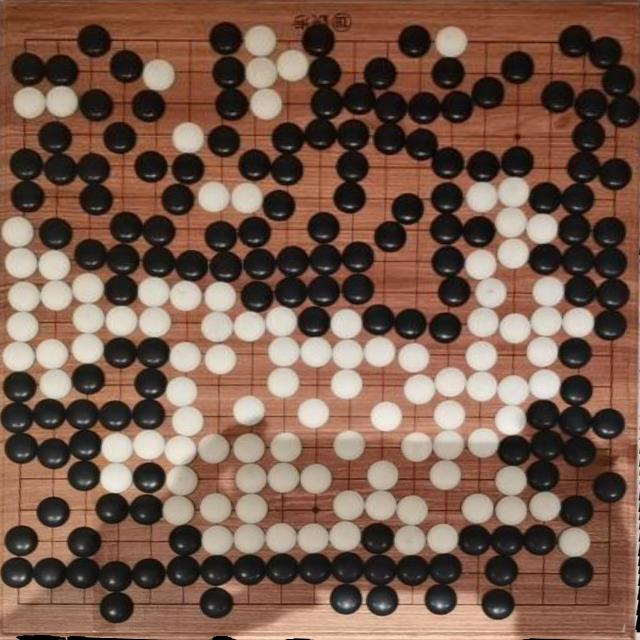blackstone: (65, 556, 102, 590), (559, 404, 594, 439), (136, 336, 172, 370), (94, 492, 130, 526), (67, 526, 103, 560), (128, 492, 164, 526), (166, 554, 202, 588), (44, 152, 78, 187), (38, 120, 73, 154), (215, 87, 249, 122), (79, 182, 114, 216), (65, 398, 100, 432), (598, 157, 633, 191), (3, 370, 38, 404), (606, 93, 640, 128), (67, 458, 102, 492), (4, 524, 39, 558), (97, 561, 132, 595), (76, 152, 112, 185), (102, 121, 138, 154), (106, 243, 140, 277), (10, 148, 44, 182), (572, 120, 606, 154), (432, 56, 466, 90), (110, 49, 144, 83), (430, 212, 464, 246), (471, 76, 505, 110), (11, 180, 45, 214), (541, 80, 575, 114), (596, 277, 630, 311), (307, 274, 341, 308), (274, 275, 308, 309), (12, 52, 46, 86), (68, 428, 102, 462), (398, 24, 432, 58), (361, 521, 395, 555), (4, 431, 38, 465), (33, 556, 67, 590), (200, 586, 234, 620), (109, 211, 144, 244), (44, 54, 79, 87), (98, 400, 133, 433), (562, 435, 597, 468), (168, 524, 203, 557), (77, 24, 112, 57), (362, 554, 397, 587), (199, 554, 234, 587), (103, 337, 139, 369), (131, 558, 167, 590), (142, 214, 176, 247), (172, 152, 206, 185), (270, 152, 304, 185), (136, 150, 170, 183), (212, 55, 246, 88), (208, 125, 242, 158), (80, 89, 114, 122), (39, 217, 73, 250), (500, 145, 534, 178), (592, 216, 626, 249), (374, 121, 407, 155), (162, 182, 196, 215), (342, 272, 375, 306), (602, 64, 636, 97), (501, 51, 535, 84), (33, 398, 67, 431), (559, 374, 593, 407), (302, 23, 335, 57), (588, 35, 622, 68), (560, 494, 594, 527), (526, 458, 560, 491), (559, 24, 592, 58), (486, 554, 520, 587), (593, 471, 627, 504), (560, 556, 593, 590), (562, 245, 596, 278), (175, 249, 210, 281), (134, 367, 169, 399), (36, 496, 71, 528), (99, 592, 134, 624), (364, 57, 397, 90), (72, 363, 105, 396), (241, 280, 274, 313), (1, 556, 34, 589), (309, 56, 342, 89), (441, 91, 474, 124), (574, 88, 608, 120), (467, 150, 501, 182), (462, 216, 496, 248), (132, 90, 166, 122), (132, 398, 166, 430), (558, 337, 592, 369), (1, 402, 35, 434), (497, 434, 531, 466), (209, 22, 243, 54), (132, 462, 166, 494), (591, 408, 625, 440), (36, 438, 70, 470), (491, 525, 525, 557), (331, 552, 365, 584), (298, 552, 332, 584), (265, 553, 299, 585), (232, 554, 266, 586), (481, 588, 515, 620), (304, 117, 338, 149), (142, 246, 176, 278), (238, 216, 271, 248), (205, 220, 238, 252), (336, 150, 369, 182), (210, 250, 243, 282), (431, 182, 464, 214), (263, 189, 296, 221), (334, 182, 366, 215), (298, 305, 331, 337), (438, 275, 471, 307), (394, 308, 427, 340), (594, 308, 627, 340), (523, 524, 556, 556), (429, 553, 462, 585), (396, 554, 429, 586), (459, 524, 492, 556), (562, 183, 594, 216), (432, 146, 464, 179), (271, 122, 304, 154), (408, 91, 440, 124), (74, 238, 106, 271), (558, 215, 592, 246), (105, 276, 140, 306), (239, 148, 271, 180), (308, 212, 340, 244), (392, 193, 424, 225), (362, 304, 394, 336), (430, 312, 462, 344), (425, 584, 457, 616), (330, 583, 362, 615), (406, 128, 438, 160), (338, 119, 370, 151), (375, 91, 407, 123), (530, 429, 563, 460), (530, 182, 561, 215), (343, 82, 374, 115), (342, 242, 374, 273), (375, 221, 407, 252), (367, 585, 399, 616), (276, 245, 308, 276), (309, 243, 341, 274), (310, 88, 342, 119), (526, 400, 559, 430), (595, 248, 628, 278), (567, 153, 600, 183), (565, 277, 597, 307), (529, 245, 561, 275), (244, 249, 275, 279)
whitestone: (171, 404, 206, 438), (38, 249, 73, 283), (165, 464, 200, 498), (36, 338, 70, 372), (72, 302, 106, 336), (3, 340, 37, 374), (6, 310, 40, 344), (233, 521, 267, 555), (199, 492, 233, 526), (7, 279, 41, 313), (40, 279, 74, 313), (2, 215, 36, 249), (245, 56, 279, 90), (13, 86, 47, 120), (70, 333, 105, 366), (71, 271, 106, 304), (169, 279, 204, 312), (428, 459, 462, 492), (434, 366, 468, 399), (526, 335, 560, 368), (168, 341, 202, 374), (164, 433, 198, 466), (366, 459, 400, 492), (132, 429, 166, 462), (39, 368, 73, 401), (230, 182, 264, 215), (496, 237, 530, 270), (100, 431, 134, 464), (162, 494, 196, 527), (364, 489, 398, 522), (236, 493, 270, 526), (5, 247, 39, 280), (172, 121, 206, 154), (276, 48, 309, 82), (143, 58, 176, 92), (138, 306, 173, 338), (403, 373, 436, 406), (528, 368, 561, 401), (497, 374, 530, 407), (297, 522, 330, 555), (329, 520, 362, 553), (250, 88, 283, 121), (46, 85, 79, 118), (232, 395, 266, 427), (300, 463, 334, 495), (268, 335, 302, 367), (233, 310, 267, 342), (332, 490, 366, 522), (164, 376, 198, 408), (464, 249, 498, 281), (99, 462, 133, 494), (267, 461, 301, 493), (467, 306, 501, 338), (202, 311, 236, 343), (531, 276, 565, 308), (235, 463, 269, 495), (138, 276, 172, 308), (269, 432, 303, 464), (393, 524, 427, 556), (474, 276, 508, 308), (244, 24, 278, 56), (267, 367, 300, 399), (330, 369, 363, 401), (204, 344, 237, 376), (494, 405, 527, 437), (465, 341, 498, 373), (300, 335, 333, 367), (332, 338, 364, 371), (466, 369, 498, 402), (461, 493, 494, 525), (562, 306, 594, 339), (105, 305, 138, 337), (233, 432, 266, 464), (265, 522, 298, 554), (202, 524, 234, 557), (466, 181, 499, 213), (197, 433, 230, 465), (265, 306, 298, 338), (497, 176, 530, 208), (435, 25, 468, 57), (558, 527, 592, 558), (370, 401, 402, 433), (364, 336, 396, 368), (334, 430, 366, 462), (398, 342, 430, 374), (198, 181, 230, 213), (499, 312, 531, 344), (204, 280, 236, 312), (400, 431, 432, 463), (526, 213, 558, 245), (396, 494, 428, 526), (496, 465, 528, 497), (426, 523, 458, 555), (496, 206, 528, 238), (529, 491, 561, 523), (297, 398, 330, 429), (433, 399, 466, 430), (330, 308, 363, 339), (495, 495, 528, 526), (433, 430, 465, 461), (468, 428, 500, 458), (532, 306, 562, 335)
